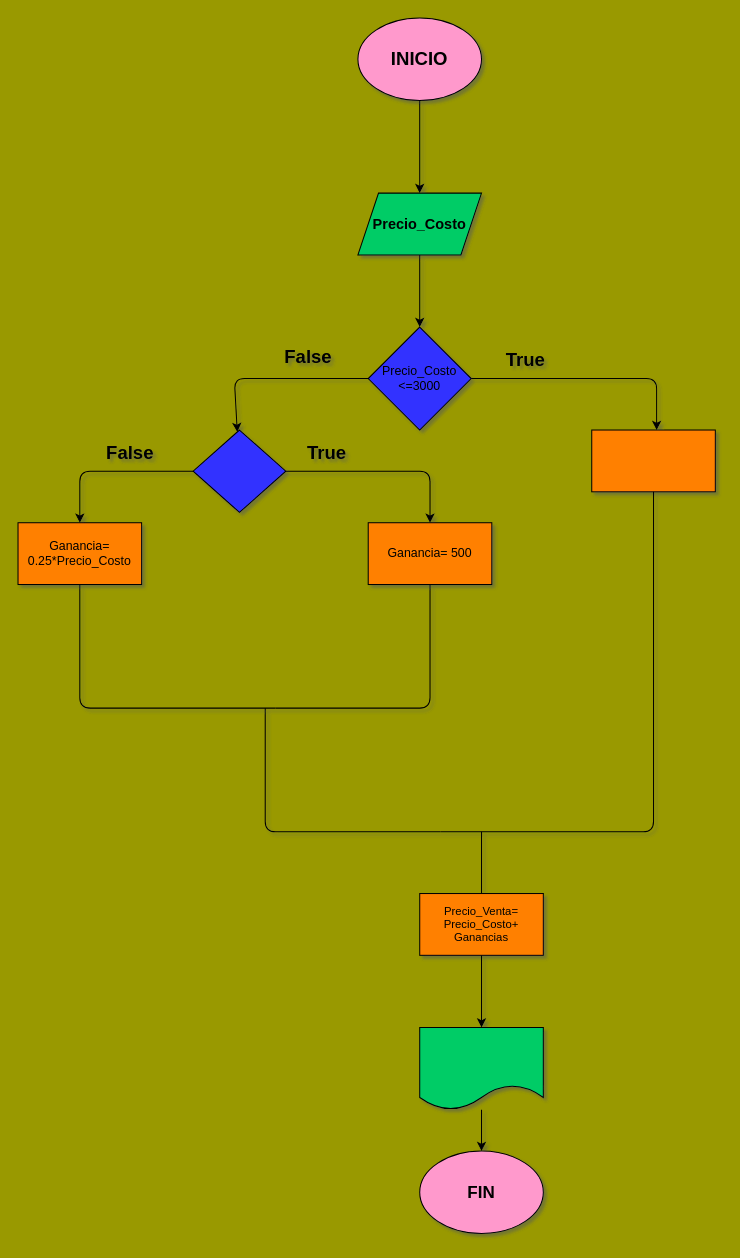
The diagram is 740 pixels wide and 1258 high, and some of its shapes have lost their labels. The centre of each missing label's shape, as x and y in pixels:
Ganancia= 0.15*Precio_Costo: (x=653, y=460)
P recio_costo <=6000: (x=239, y=470)
Precio_Venta: (x=481, y=1068)
